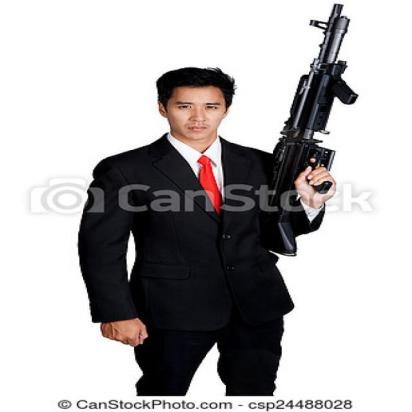Gun: (269, 4, 362, 258)
